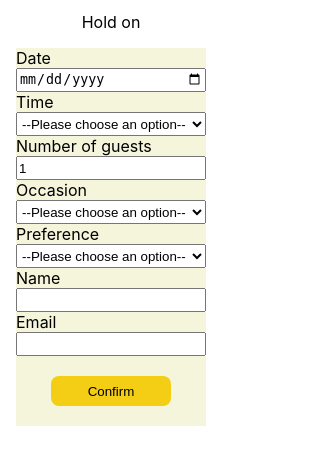
Test case: Test BookingForm › Testing form validation on invalid inputs › test invalid preference
Select "no_preference" in the dropdown labelled "Preference" at (111, 256), box [16,244,206,268]
Leave the dropdown labelled "Preference", box [16,244,206,268]
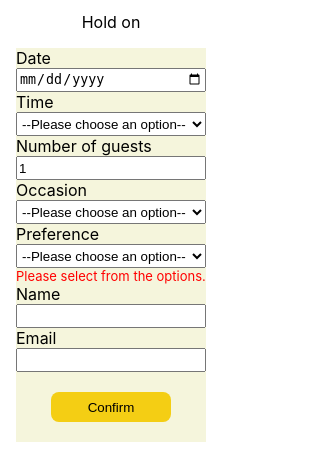
Expected: the text with test id "res_preference_error" reads "Please select from the options.", [16,268,206,284]
